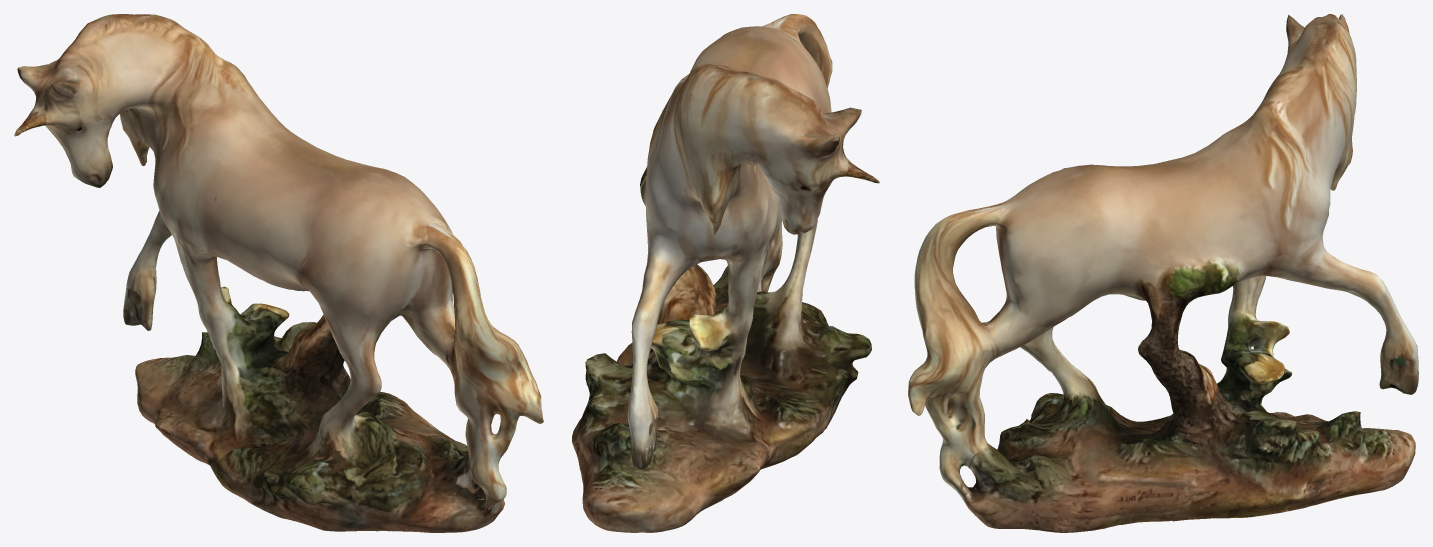
Rendered from unicorn.glb.
The picture shows the model from 3 angles, left to right: view 1: azimuth 30°, elevation 25°; view 2: azimuth 150°, elevation 25°; view 3: azimuth 270°, elevation 25°; orthographic projection. The views are drawn at different scales.
Visible parts, largest first — view 1: Object_2; view 2: Object_2; view 3: Object_2.
Boxes of the visible parts, box(x1,y1,x2,y2) form: Object_2: box(14, 14, 543, 532); Object_2: box(572, 14, 879, 532); Object_2: box(908, 14, 1418, 532).
Size of the model in its own units: 163 by 201 by 228.
1 material, 1 textured.
